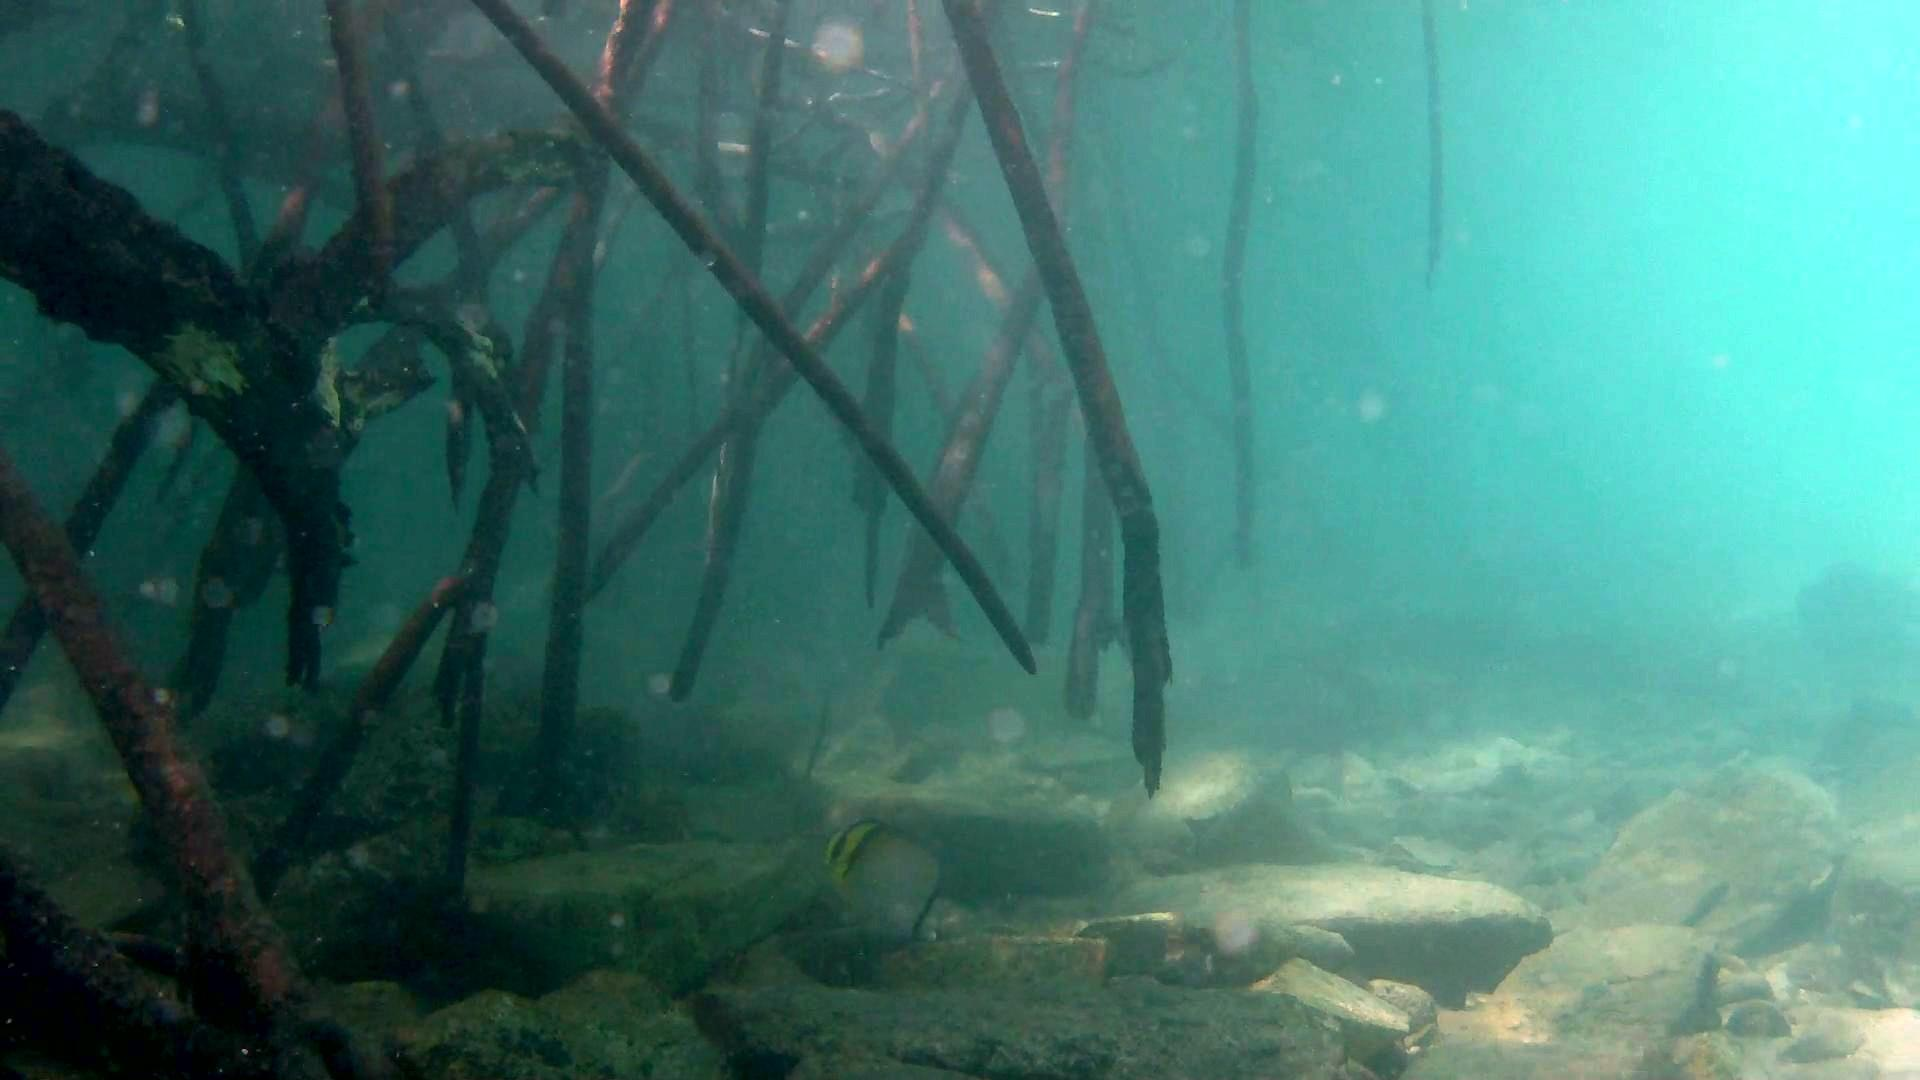chaetodon vagabundus: (818, 815, 944, 947)
